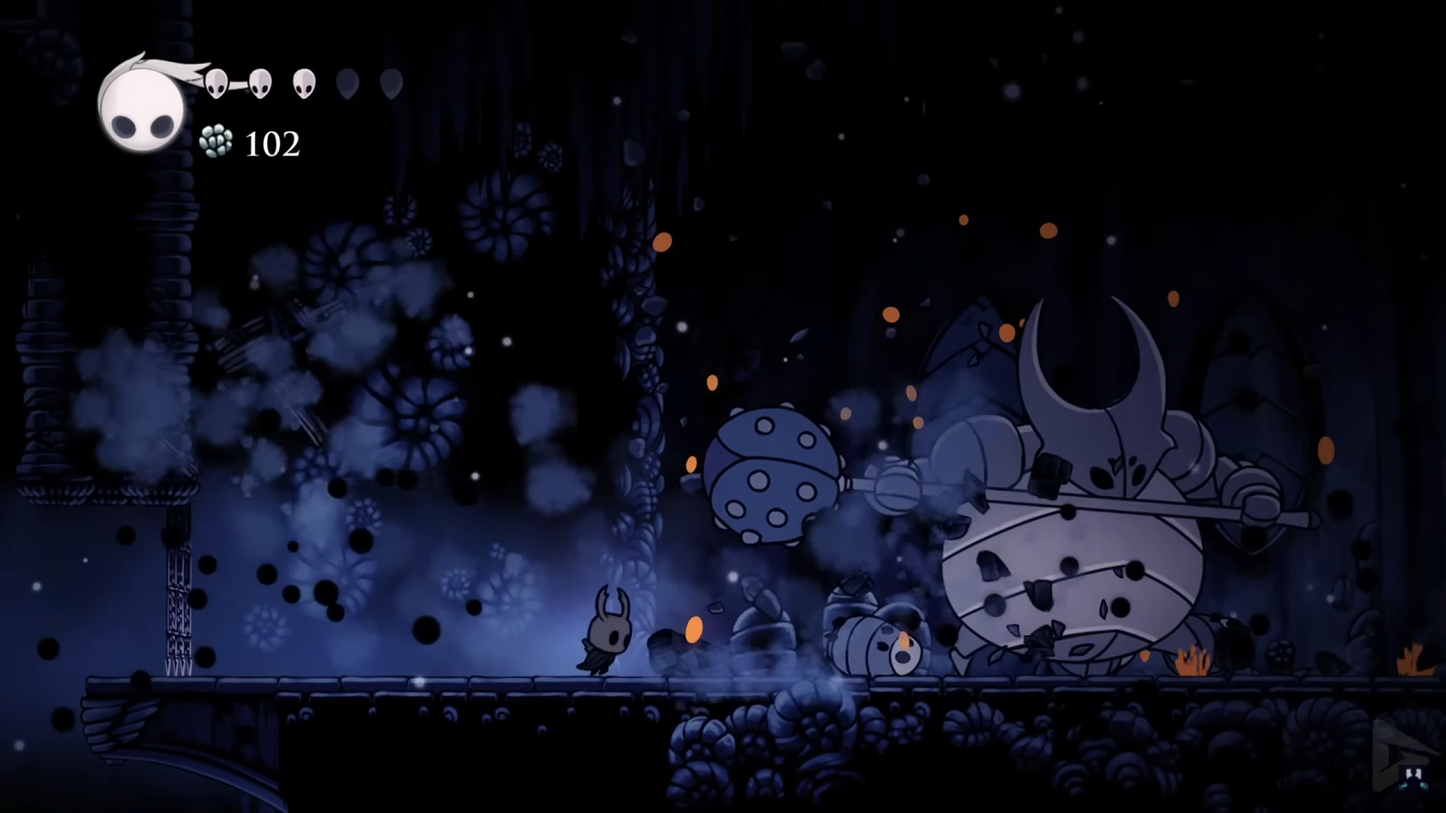HK: (575, 585, 637, 680)
